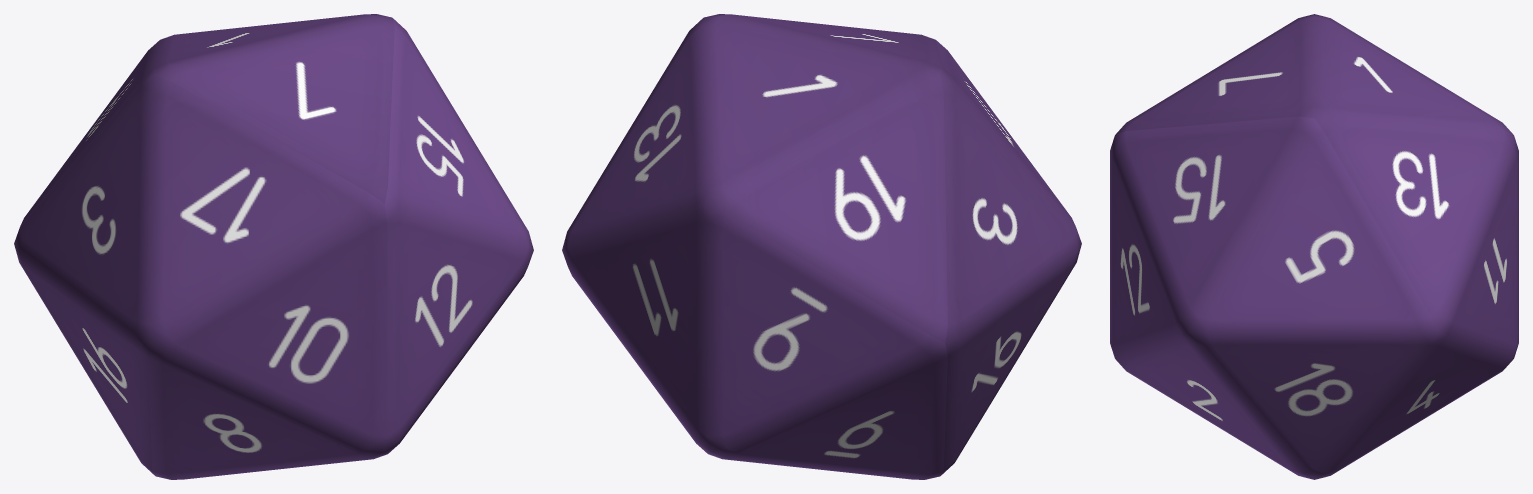
3 renders of one model, left to right at view 1: azimuth 30°, elevation 25°; view 2: azimuth 150°, elevation 25°; view 3: azimuth 270°, elevation 25°, orthographic. The views are drawn at different scales.
Parts seen in each view (by area): view 1: pSolid1; view 2: pSolid1; view 3: pSolid1.
Part boxes in pixels (x1=…): pSolid1: x1=14, y1=14, x2=533, y2=479; pSolid1: x1=562, y1=14, x2=1081, y2=479; pSolid1: x1=1110, y1=14, x2=1518, y2=479.
Bounding box in the file's own units: 179 × 179 × 179.
1 material, 1 textured.
